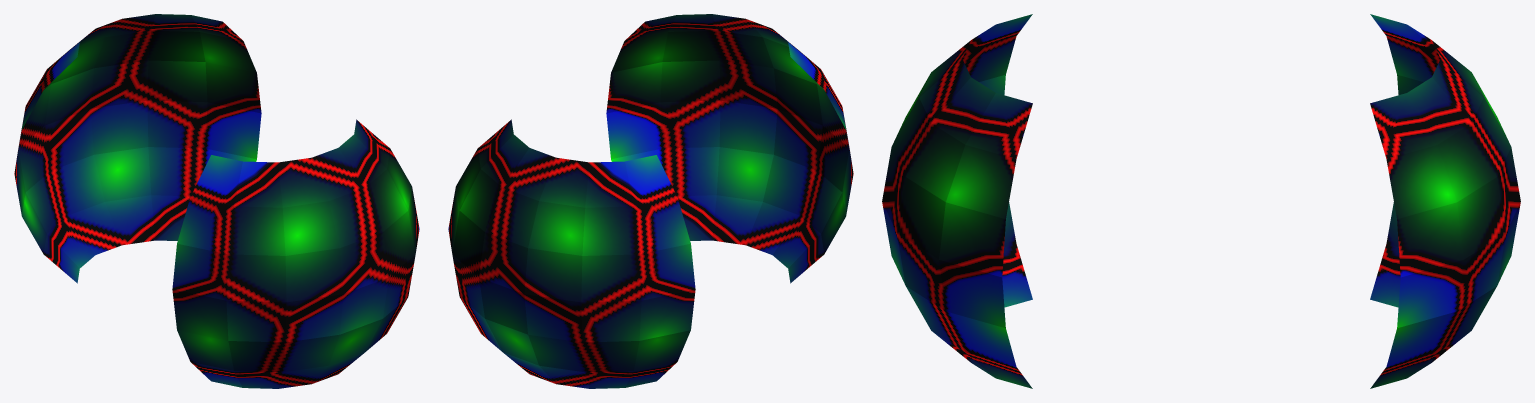
The model's file is back_front_shield.obj.
The picture shows the model from 3 angles, left to right: view 1: azimuth 30°, elevation 25°; view 2: azimuth 150°, elevation 25°; view 3: azimuth 270°, elevation 25°; orthographic projection. The views are drawn at different scales.
Parts seen in each view (by area): view 1: Sphere; view 2: Sphere; view 3: Sphere.
Part boxes in pixels (<box>): Sphere: <box>14,14,419,388</box>; Sphere: <box>448,14,853,388</box>; Sphere: <box>882,14,1520,388</box>.
Size of the model in its own units: 1.85 by 1.62 by 3.28.
